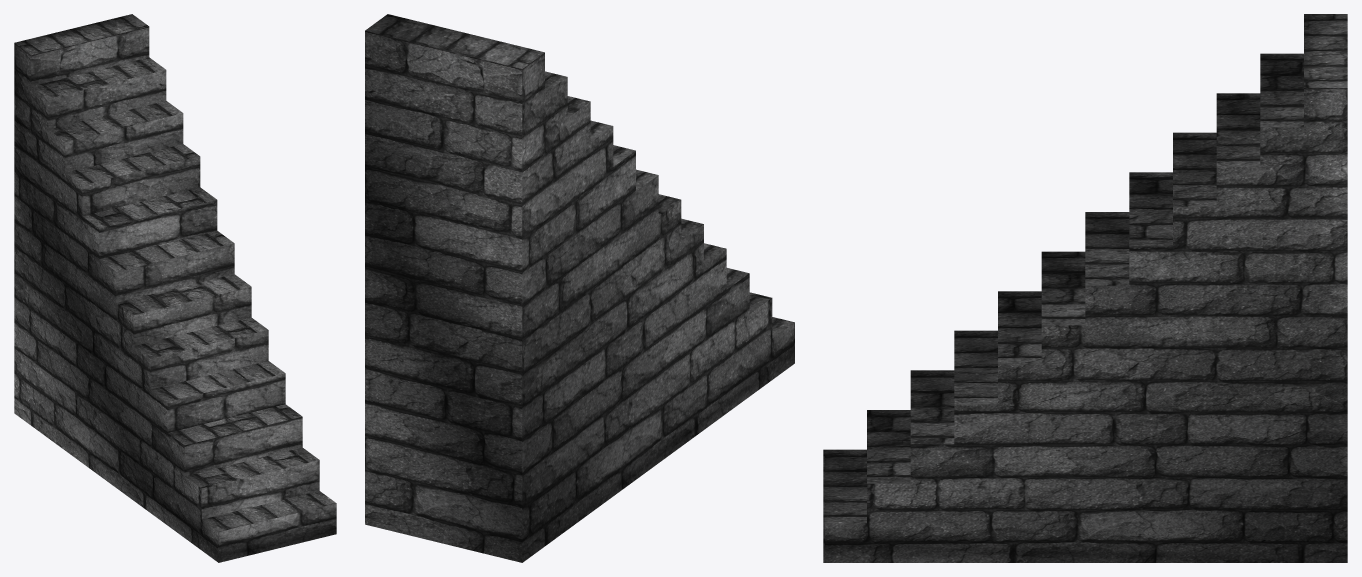
File: stone stairs.glb
3 views of the same model, side by side, from view 1: azimuth 30°, elevation 25°; view 2: azimuth 150°, elevation 25°; view 3: azimuth 270°, elevation 25° (orthographic). The views are drawn at different scales.
Visible parts, largest first — view 1: Steps; view 2: Steps; view 3: Steps.
Part boxes in pixels (box(x1,y1,x2,y2)): Steps: box(14, 14, 336, 562); Steps: box(365, 14, 794, 562); Steps: box(823, 14, 1347, 562).
Size of the model in its own units: 0.9144 by 2.74 by 2.74.
Materials: 1 (1 with a texture image).
